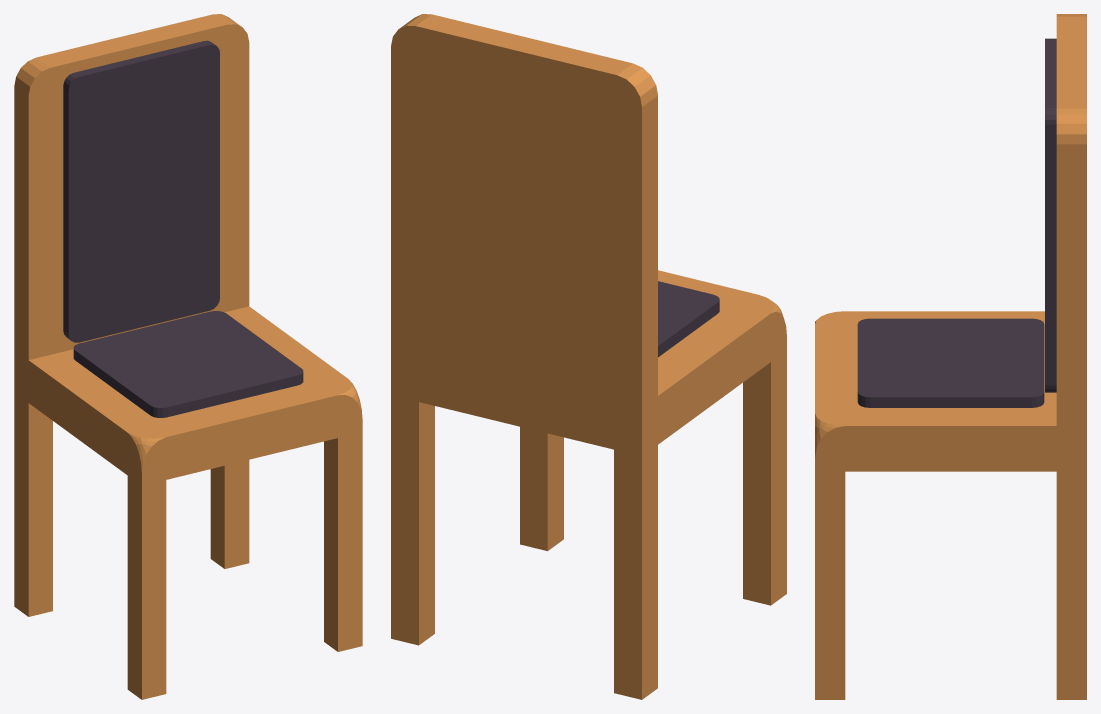
File: sandalye.fbx
3 views of the same model, side by side, from view 1: azimuth 30°, elevation 25°; view 2: azimuth 150°, elevation 25°; view 3: azimuth 270°, elevation 25° (orthographic). The views are drawn at different scales.
Visible parts, largest first — view 1: Plane.003; view 2: Plane.003; view 3: Plane.003.
Boxes of the visible parts, x1,y1,x2,y2 form: Plane.003: (14,14,362,699); Plane.003: (391,14,786,699); Plane.003: (815,14,1086,699).
Size of the model in its own units: 90 by 212 by 90.
